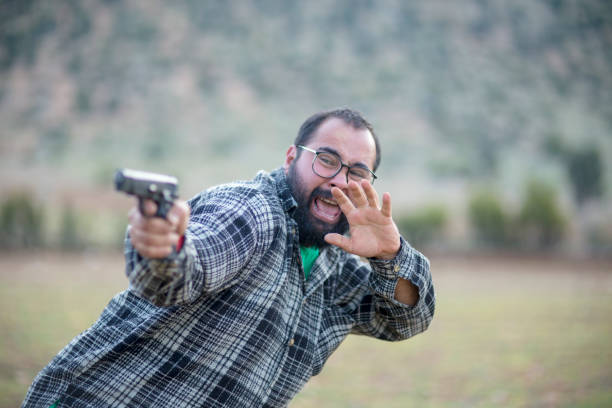gun: (111, 169, 178, 219)
